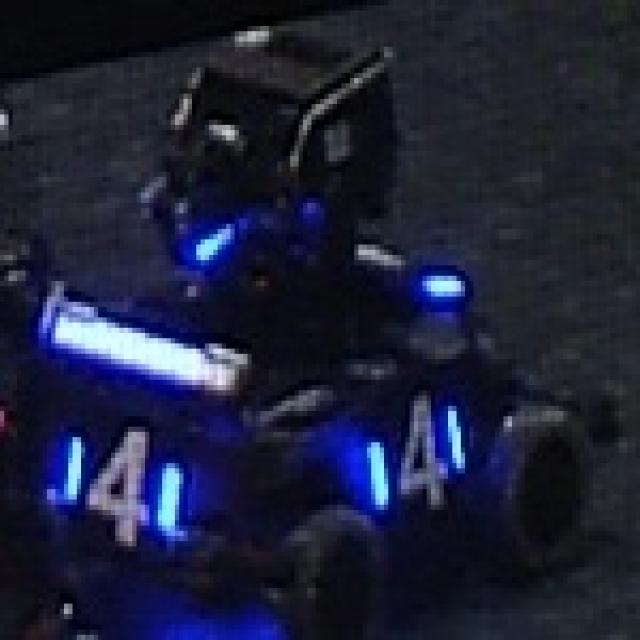B4: (42, 416, 188, 557), (354, 375, 474, 520)
